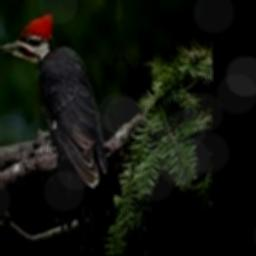Woodpecker: (0, 10, 120, 254)
